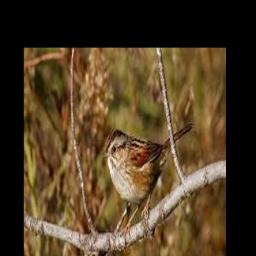Sparrow: (102, 124, 192, 246)
